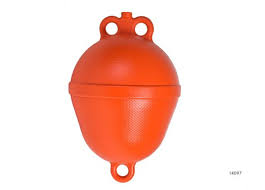buoy: (70, 33, 183, 167)
